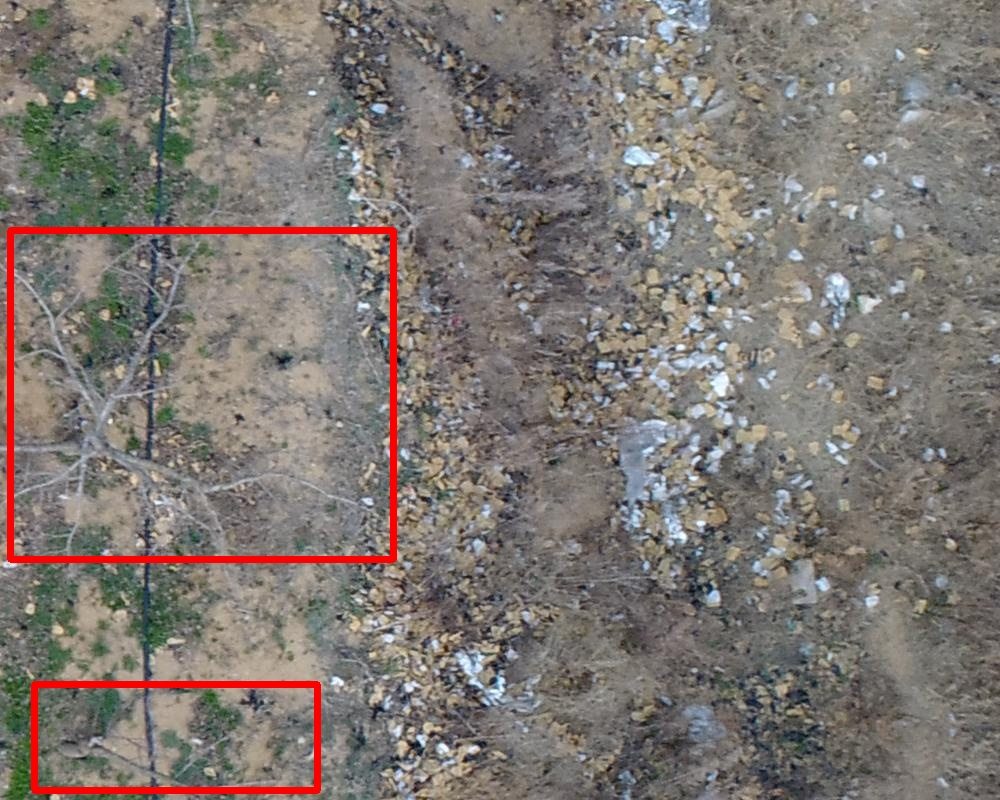apple: (10, 230, 393, 559), (34, 684, 317, 790)
